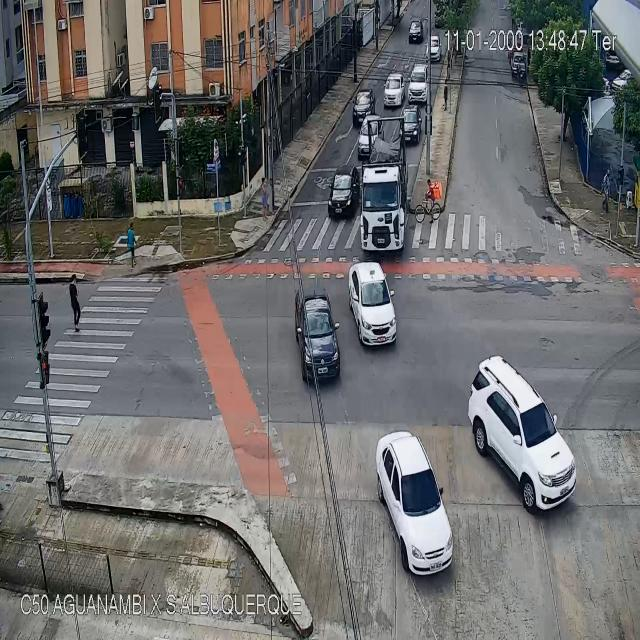Car: (468, 356, 580, 512), (376, 432, 452, 578), (293, 285, 340, 383), (348, 259, 397, 350), (355, 110, 392, 154), (328, 169, 356, 220), (409, 64, 430, 103), (353, 90, 375, 126), (400, 106, 420, 142), (384, 74, 403, 109), (408, 18, 422, 44), (426, 36, 441, 59), (512, 52, 524, 78)
Motorcycle: (516, 63, 522, 84)
Truck: (360, 139, 404, 252)
